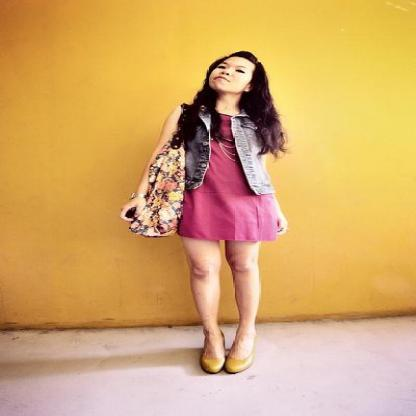bag: (121, 148, 198, 235)
dress: (172, 112, 282, 244)
shirt: (166, 100, 268, 186)
shoe: (185, 341, 247, 372)
